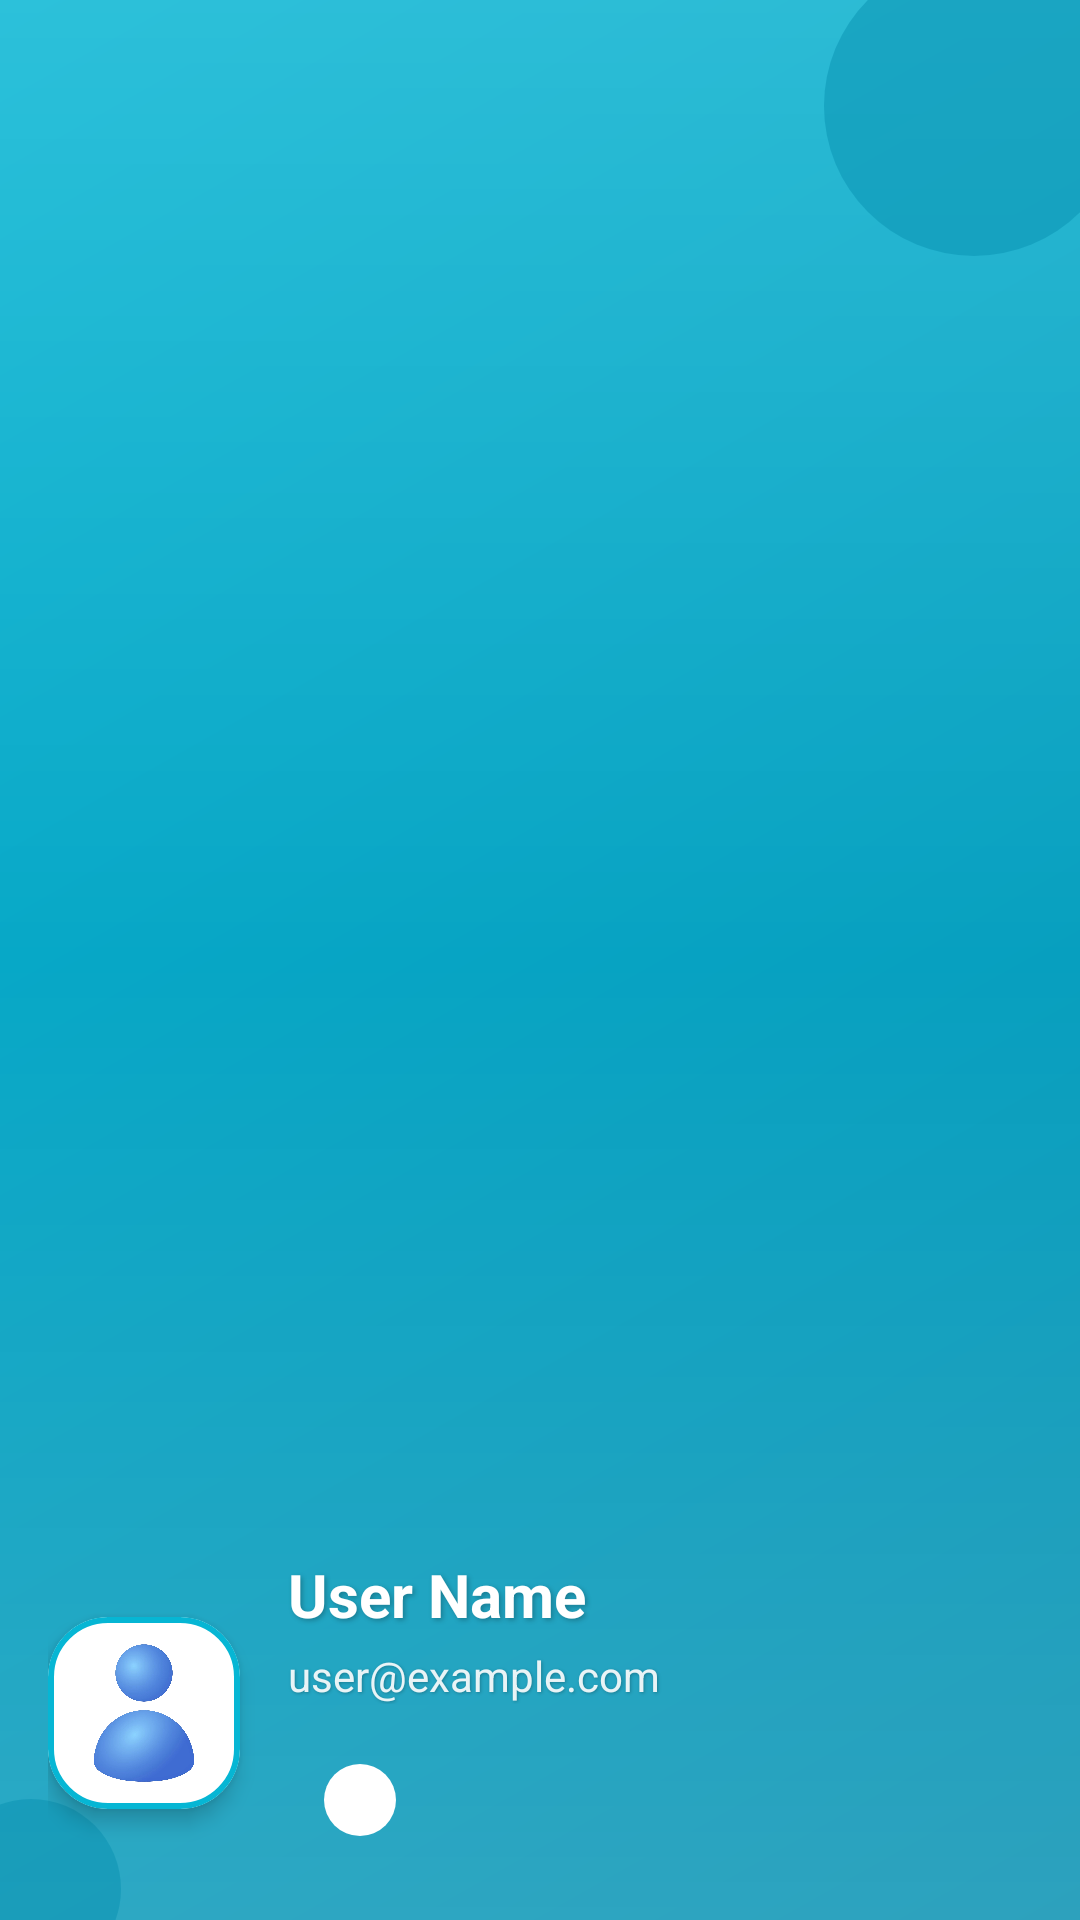

Locate icon controls on the screen. Image size 1080*1920, boxes as (x1, y1, x2, y2).
profile: (48, 1617, 240, 1809)
